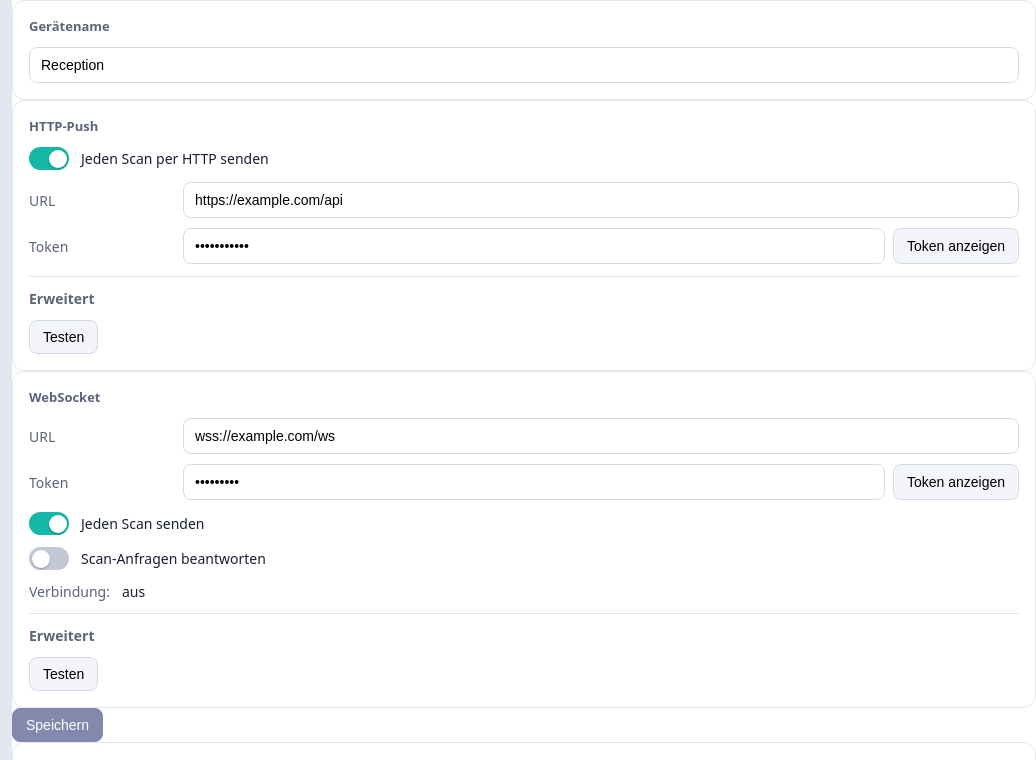
Test: ServerSettings › shows the translated error when the HTTP test fails
The width and height of the screenshot is (1036, 760).
Click the button with test id "http-test". click: (64, 337)
box: [29,320,98,354]
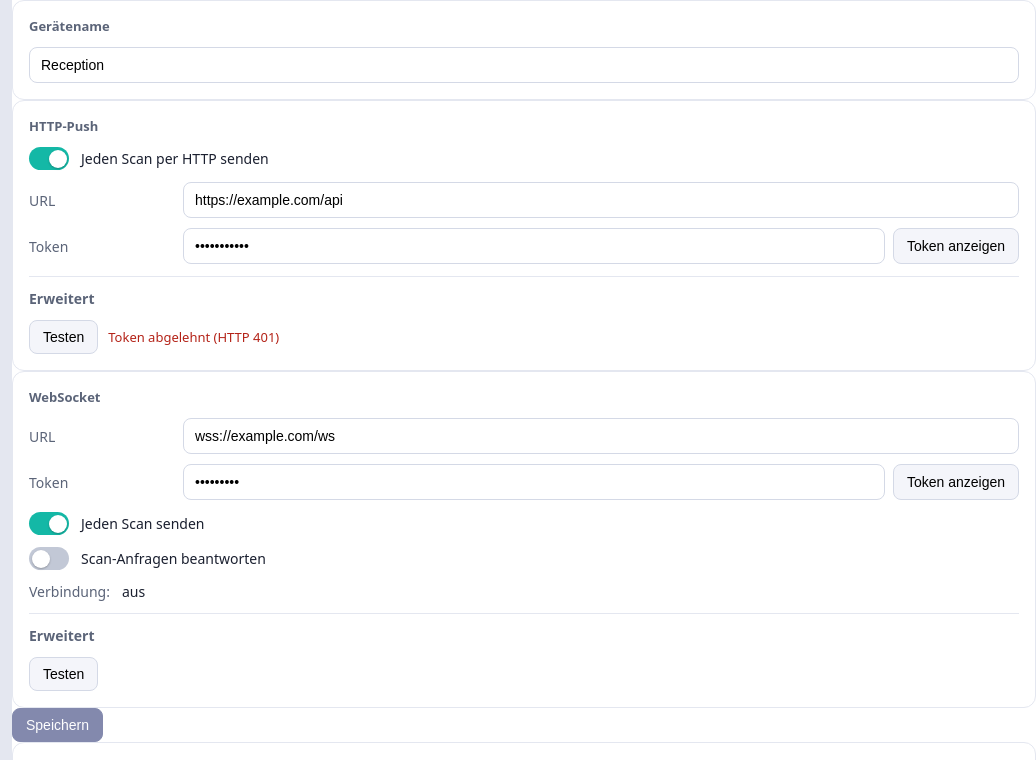
Expected: the text with test id "http-test-result" shows "401", [108,328,279,346]
